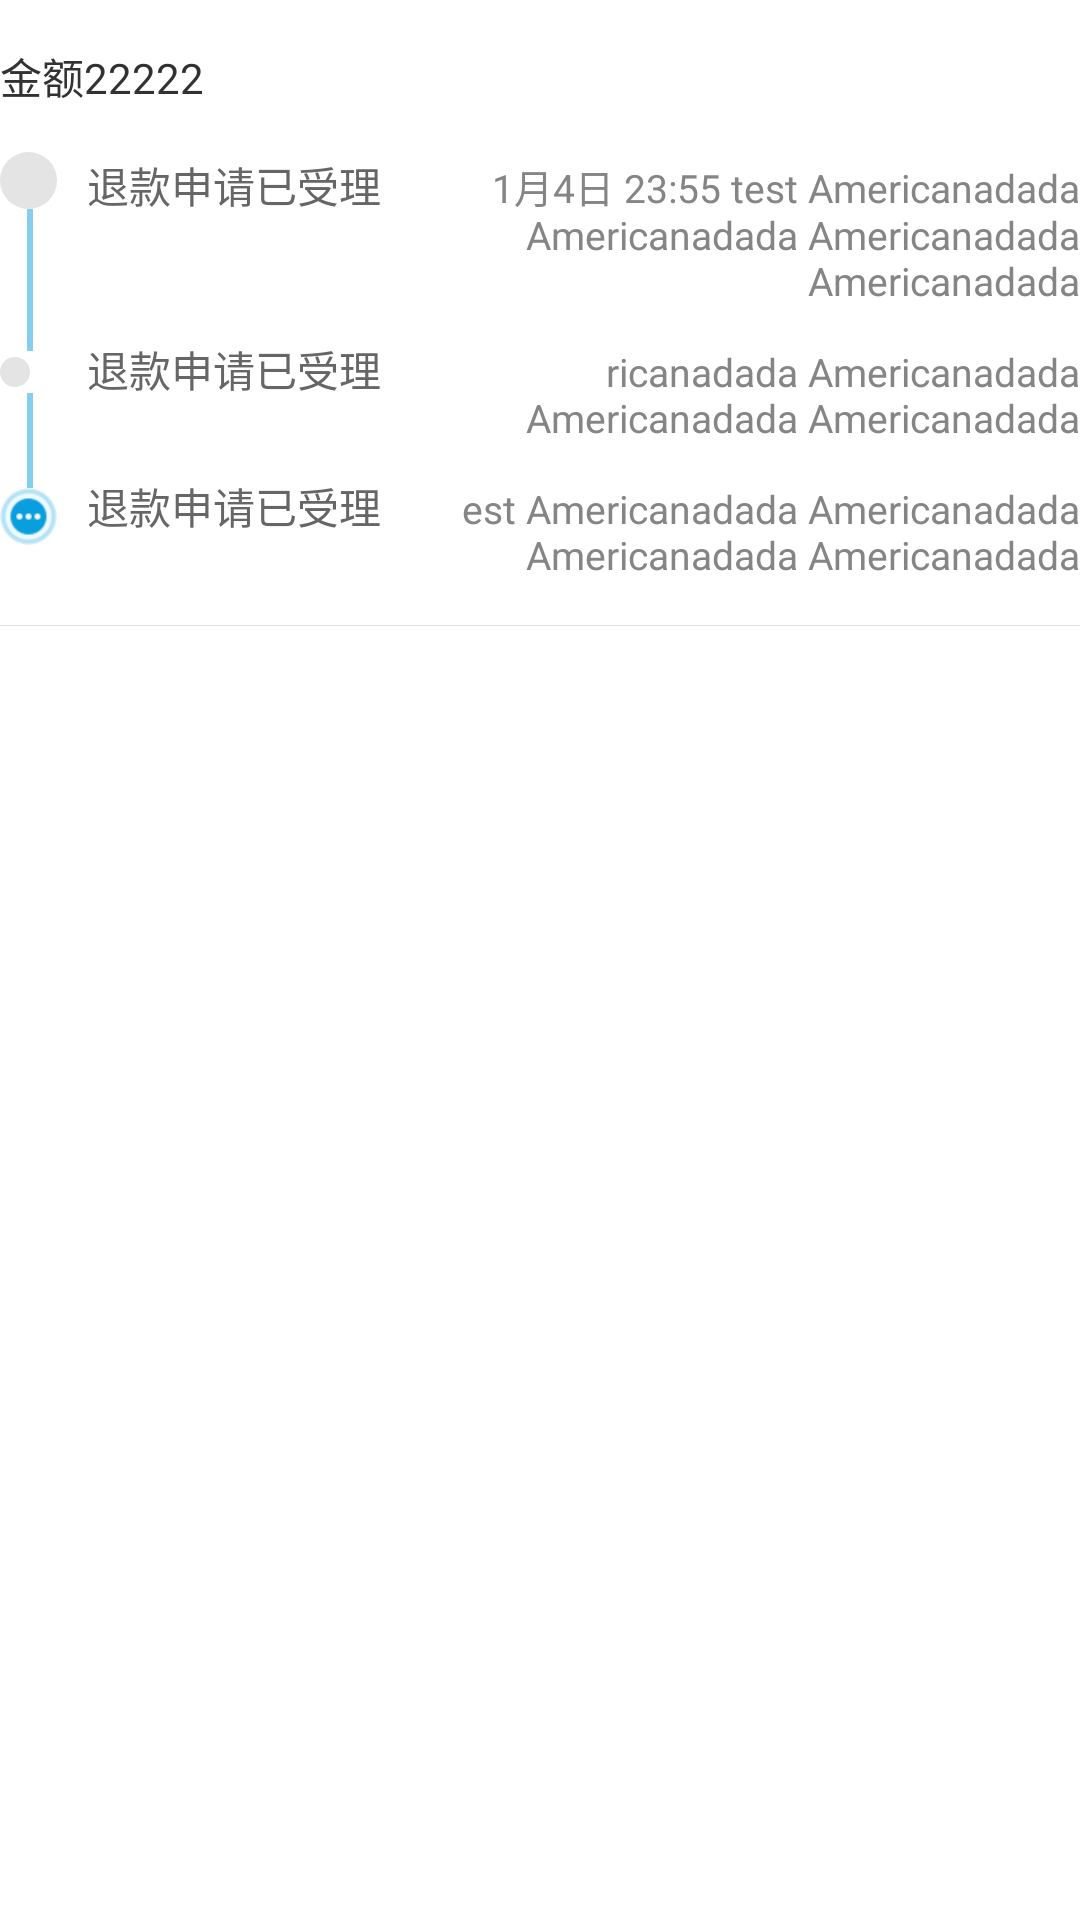

Named icons in this screenshot (1080*1920) and their bounding boxes, (x1, y1, x2, y2):
ing: (10, 498, 47, 535)
